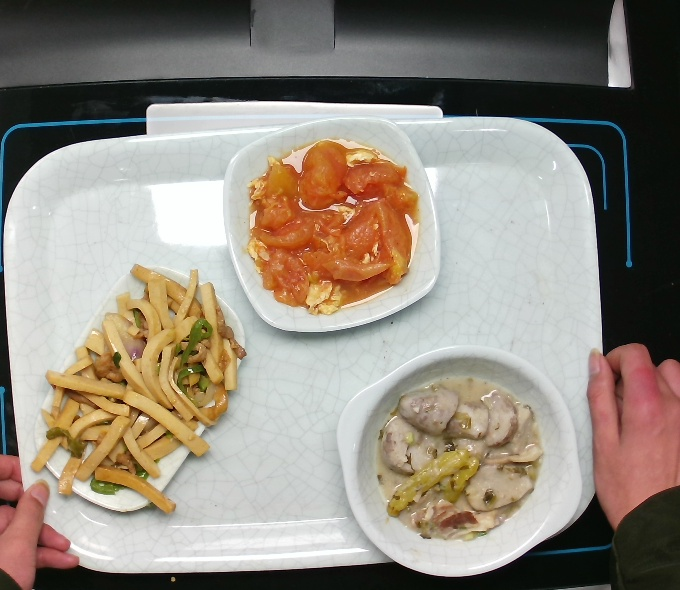wcq-FanQieChaoDan: (241, 131, 425, 320)
wcq-QianYeDouFu: (28, 259, 251, 520)
wcq-YangYu: (371, 370, 548, 547)
